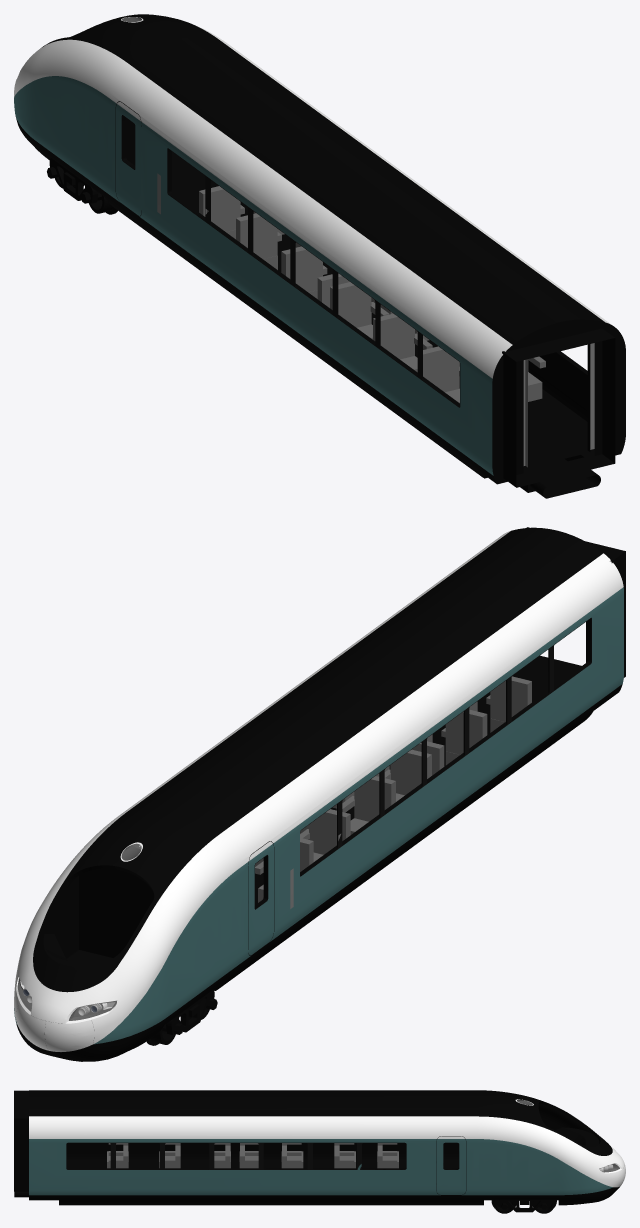
Rendered from hs_train_back_loc.glb.
3 renders of one model, top to bottom at view 1: azimuth 30°, elevation 25°; view 2: azimuth 150°, elevation 25°; view 3: azimuth 270°, elevation 25°, orthographic. The views are drawn at different scales.
Visible parts, largest first — view 1: SketchUp, Box_34, Box_30, Box_38, Box_50, Box_46, Box_54, Line004; view 2: SketchUp, Box_46, Box_34, Box_30, Box_50, Box_42; view 3: SketchUp, Line004.
Part boxes in pixels (<box>): SketchUp: <box>14,14,625,498</box>; Box_34: <box>373,313,414,359</box>; Box_30: <box>423,346,459,392</box>; Box_38: <box>330,282,371,327</box>; Box_50: <box>236,213,277,258</box>; Box_46: <box>281,246,322,292</box>; Box_54: <box>199,186,240,231</box>; Line004: <box>49,158,98,203</box>; SketchUp: <box>14,527,625,1061</box>; Box_46: <box>354,776,395,821</box>; Box_34: <box>445,709,487,754</box>; Box_30: <box>490,676,531,721</box>; Box_50: <box>309,809,350,854</box>; Box_42: <box>390,749,431,795</box>; SketchUp: <box>14,1090,625,1205</box>; Line004: <box>499,1199,549,1212</box>.
Bounding box in the file's own units: 3 × 3.86 × 20.51.
